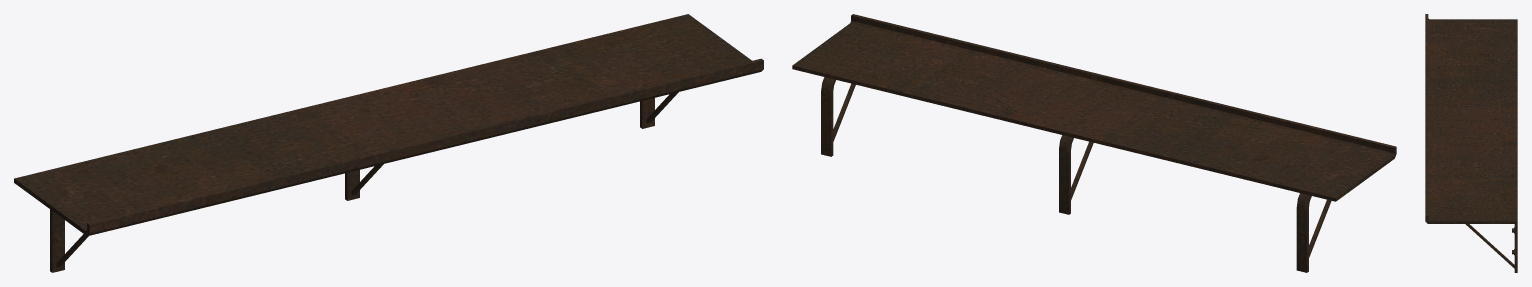
The model's file is hanging_shelf_mx_1_1.dae.
The picture shows the model from 3 angles, left to right: view 1: azimuth 30°, elevation 25°; view 2: azimuth 150°, elevation 25°; view 3: azimuth 270°, elevation 25°; orthographic projection. The views are drawn at different scales.
Visible parts, largest first — view 1: hanging_shelf_mx_1_1; view 2: hanging_shelf_mx_1_1; view 3: hanging_shelf_mx_1_1.
Part boxes in pixels (bbox=[...]): hanging_shelf_mx_1_1: bbox=[14, 14, 763, 272]; hanging_shelf_mx_1_1: bbox=[792, 14, 1396, 272]; hanging_shelf_mx_1_1: bbox=[1425, 14, 1517, 272].
Size of the model in its own units: 1.6 by 0.31 by 0.25.
Materials: 1 (1 with a texture image).
